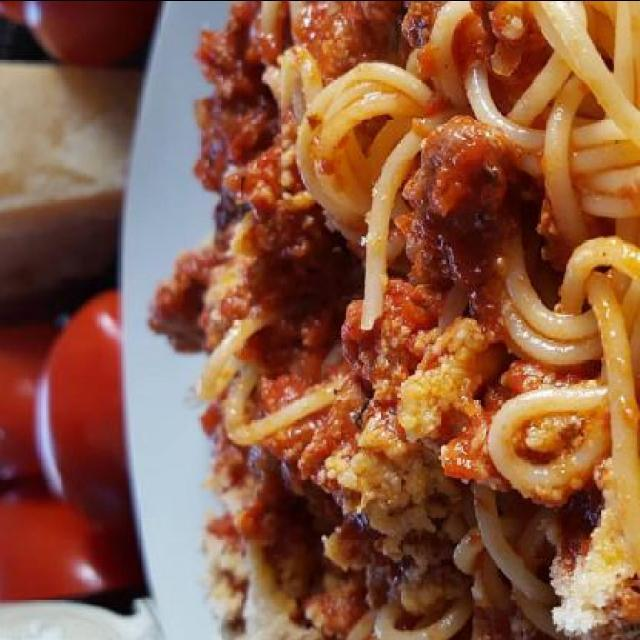Pasta al ragu: (134, 9, 617, 632)
